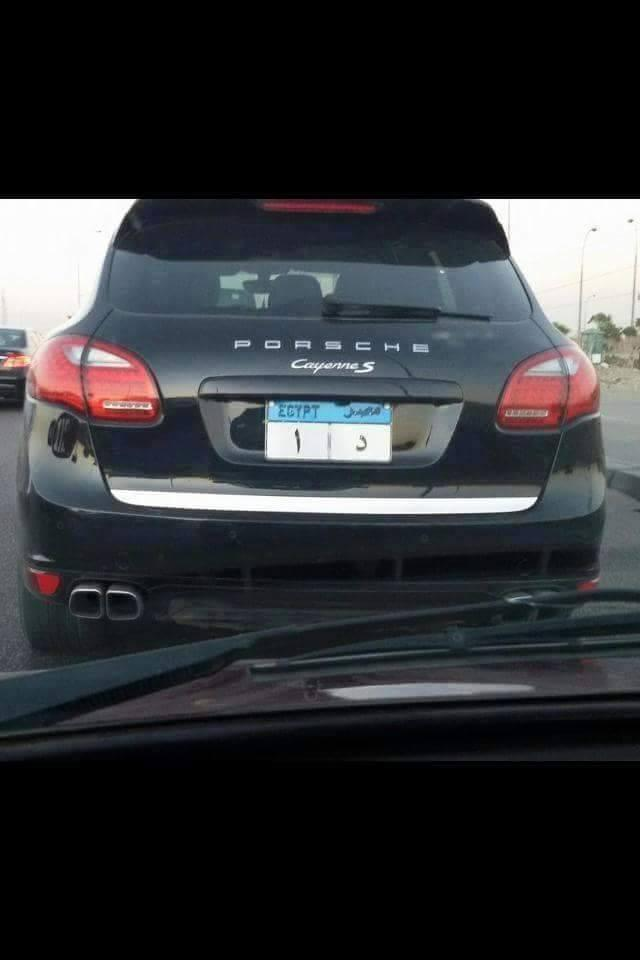1: (291, 424, 302, 454)
License Plate: (262, 397, 395, 465)
car: (10, 198, 608, 624), (0, 323, 27, 403)
daal: (350, 430, 372, 453)
